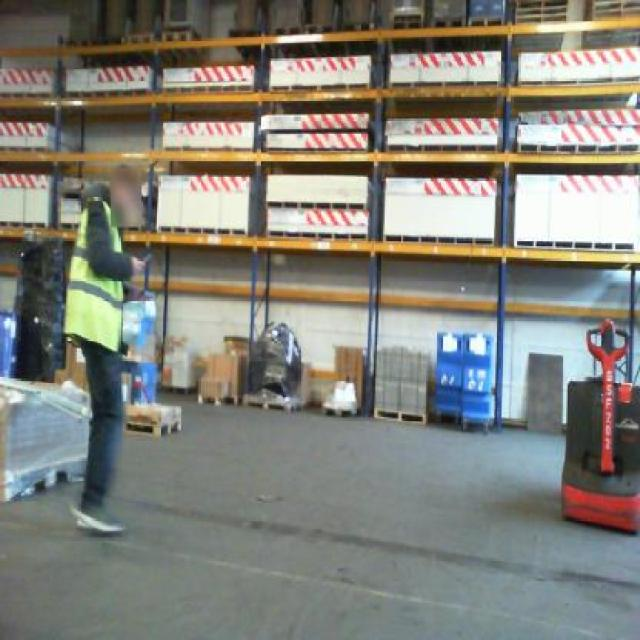ground: (0, 386, 638, 638)
pallet: (0, 450, 92, 509), (510, 238, 638, 252), (238, 392, 306, 415), (260, 228, 371, 242), (513, 77, 640, 89), (122, 414, 186, 437), (373, 404, 431, 429), (264, 198, 372, 211), (63, 85, 151, 100), (515, 143, 640, 153), (154, 223, 250, 236), (387, 78, 502, 88), (266, 82, 372, 91), (317, 402, 363, 419), (195, 394, 242, 407), (160, 28, 197, 43), (119, 31, 157, 45), (467, 16, 509, 27), (226, 26, 264, 38)
